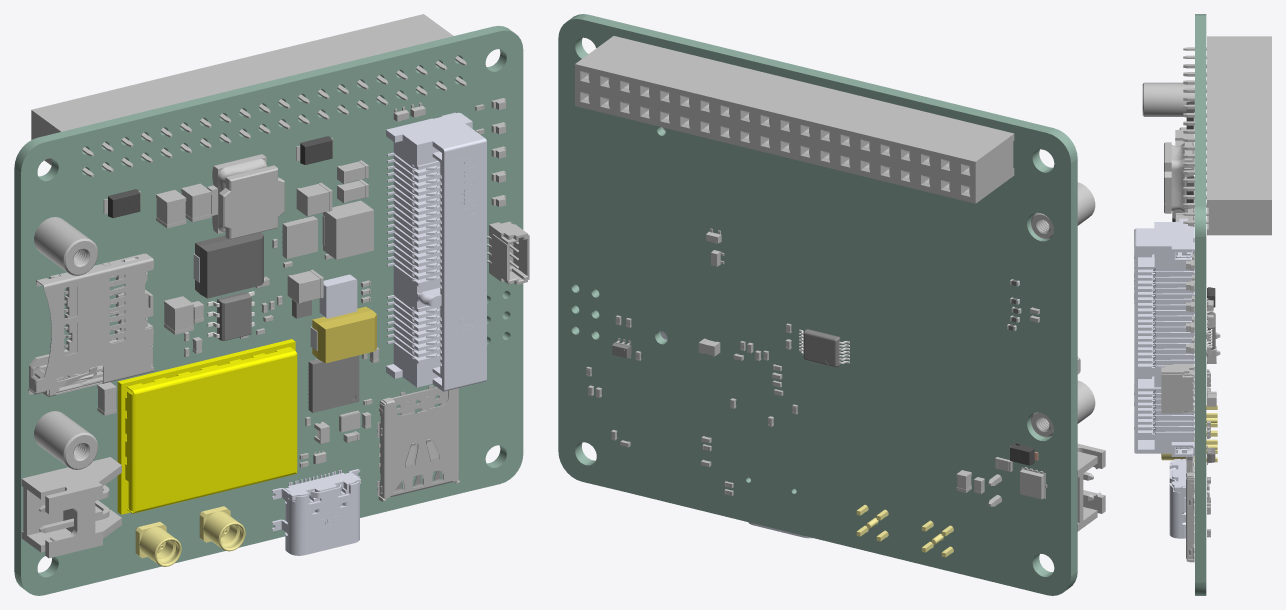
Rendered from hat_variant_1.glb.
3 views of the same model, side by side, from view 1: azimuth 30°, elevation 25°; view 2: azimuth 150°, elevation 25°; view 3: azimuth 270°, elevation 25° (orthographic). The views are drawn at different scales.
Visible parts, largest first — view 1: empty_354, empty_100, empty_159, empty_308, empty_92, empty_104, empty_56, empty_181, empty_67, empty_31, empty_256, empty_18 (+16 smaller); view 2: empty_354, empty_308, empty_56, empty_289, empty_16, empty_15; view 3: empty_308, empty_159, empty_354, empty_16, empty_67, empty_197, empty_181, empty_104, empty_10, empty_45.
Boxes of the visible parts, <box> form: empty_354: <box>14,25,523,595</box>; empty_100: <box>117,339,297,514</box>; empty_159: <box>386,112,486,391</box>; empty_308: <box>31,14,466,176</box>; empty_92: <box>28,253,153,396</box>; empty_104: <box>377,385,459,501</box>; empty_56: <box>21,457,121,558</box>; empty_181: <box>271,469,360,555</box>; empty_67: <box>207,154,284,239</box>; empty_31: <box>195,232,263,298</box>; empty_256: <box>312,306,376,363</box>; empty_18: <box>323,200,373,259</box>; empty_354: <box>558,14,1077,595</box>; empty_308: <box>575,36,1014,203</box>; empty_56: <box>1077,443,1105,531</box>; empty_289: <box>803,329,840,367</box>; empty_16: <box>1031,182,1095,239</box>; empty_15: <box>1031,380,1095,437</box>; empty_308: <box>1183,36,1271,235</box>; empty_159: <box>1134,218,1194,456</box>; empty_354: <box>1195,14,1206,595</box>; empty_16: <box>1142,82,1194,116</box>; empty_67: <box>1164,142,1192,213</box>; empty_197: <box>1161,364,1193,413</box>; empty_181: <box>1169,459,1194,538</box>; empty_104: <box>1186,455,1194,562</box>; empty_10: <box>1161,431,1217,462</box>; empty_45: <box>1194,405,1217,431</box>.
Bounding box in the file's own units: 0.065 × 0.0571 × 0.0181.
